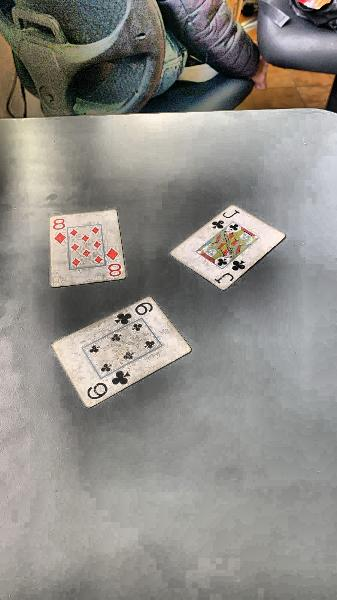6T: (77, 364, 146, 409), (109, 297, 164, 331)
8D: (106, 246, 126, 280), (50, 214, 69, 245)
JT: (209, 255, 256, 292), (206, 201, 248, 235)
